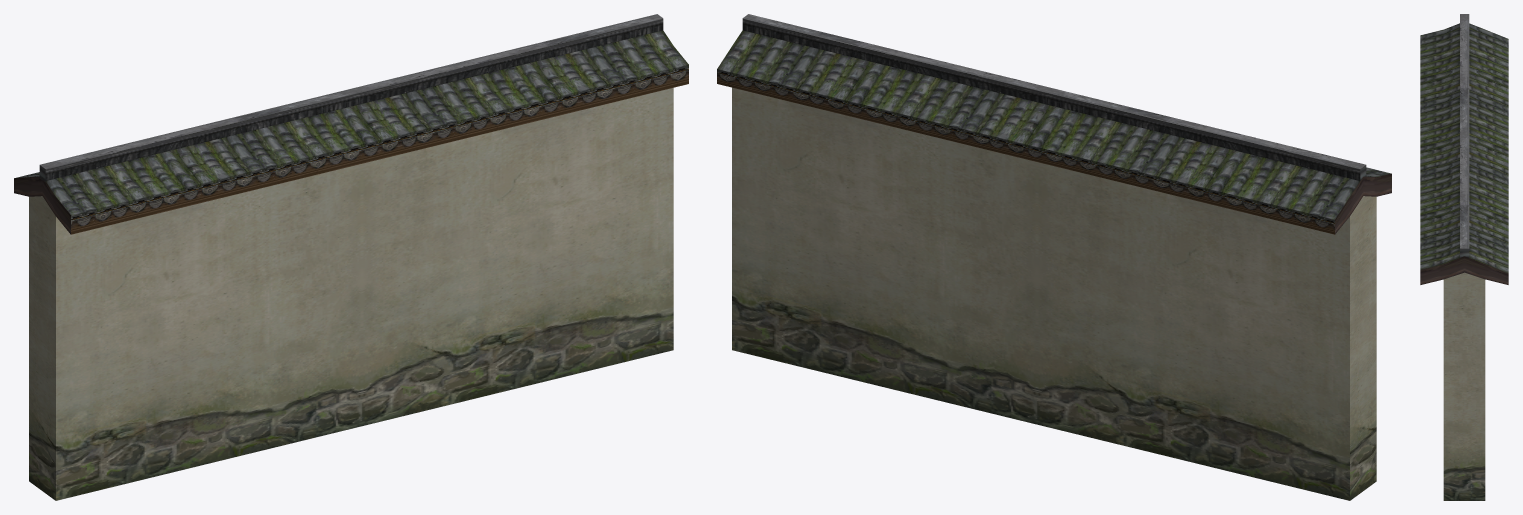
The model's file is qiang_dw_25.fbx.
The picture shows the model from 3 angles, left to right: view 1: azimuth 30°, elevation 25°; view 2: azimuth 150°, elevation 25°; view 3: azimuth 270°, elevation 25°; orthographic projection. The views are drawn at different scales.
Visible parts, largest first — view 1: qiang_dw_25; view 2: qiang_dw_25; view 3: qiang_dw_25.
Part boxes in pixels (x1=…): qiang_dw_25: x1=14, y1=14, x2=688, y2=500; qiang_dw_25: x1=717, y1=14, x2=1391, y2=500; qiang_dw_25: x1=1420, y1=14, x2=1508, y2=500.
Size of what is drawn, in the model's own units: 1120 by 562 by 178.
